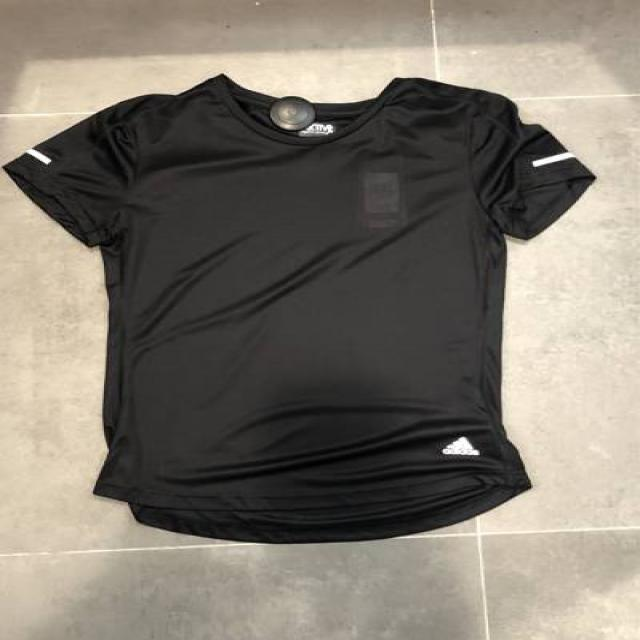Clothes -Biodegradable-: (2, 76, 598, 545)
